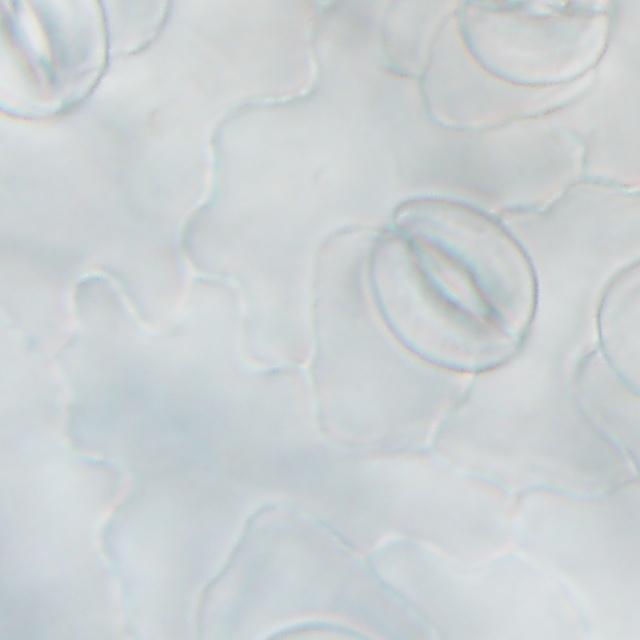center: (409, 238, 493, 321), (501, 36, 570, 49), (588, 323, 640, 330), (295, 630, 341, 633)
stomata-huw1: (368, 199, 536, 371), (458, 0, 613, 85), (1, 1, 107, 118), (596, 260, 639, 393), (266, 624, 370, 639)
